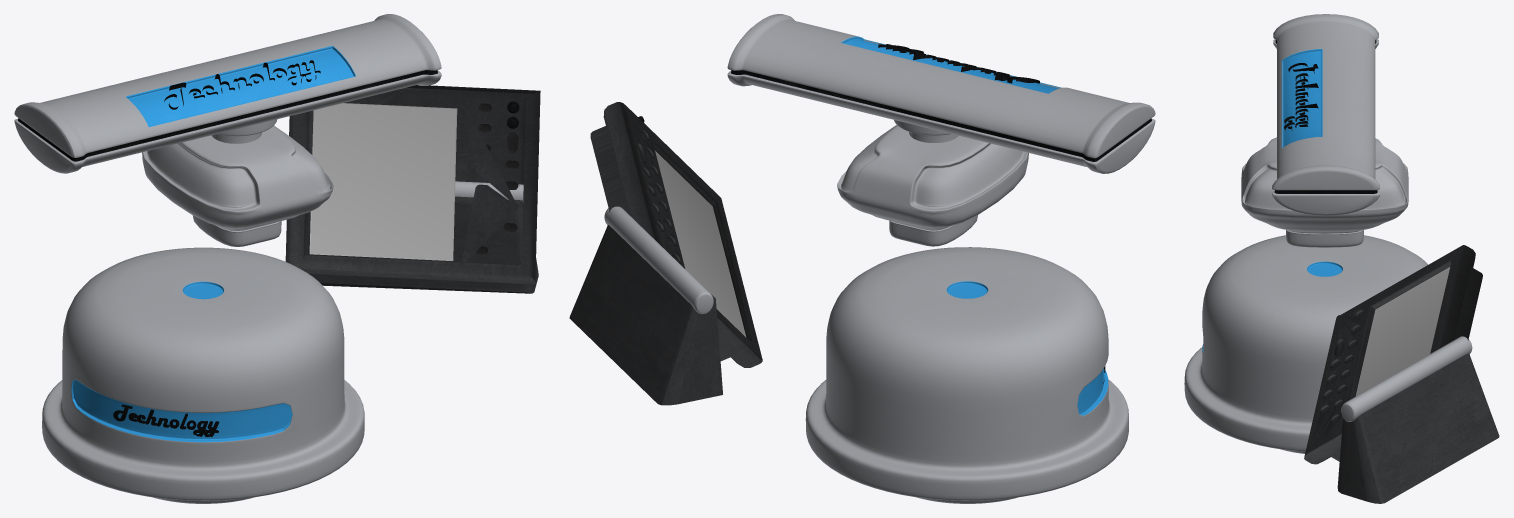
Rendered from Low Poly Ship Radar and Sonar Screen Collection.obj.
3 renders of one model, left to right at view 1: azimuth 30°, elevation 25°; view 2: azimuth 150°, elevation 25°; view 3: azimuth 270°, elevation 25°, orthographic. The views are drawn at different scales.
Parts seen in each view (by area): view 1: Radar_gövde, Radar_Ekran, Radar_başlık, Radar_gövde_1, Radar_yazı, Radar_yazı.001; view 2: Radar_gövde, Radar_Ekran, Radar_başlık, Radar_gövde_1, Radar_yazı.001; view 3: Radar_Ekran, Radar_gövde, Radar_başlık, Radar_gövde_1, Radar_yazı.001.
Part boxes in pixels (<box>): Radar_gövde: <box>42,247,364,503</box>; Radar_Ekran: <box>285,85,540,293</box>; Radar_başlık: <box>14,14,441,173</box>; Radar_gövde_1: <box>142,119,333,246</box>; Radar_yazı: <box>113,404,219,437</box>; Radar_yazı.001: <box>164,60,320,109</box>; Radar_gövde: <box>805,247,1128,503</box>; Radar_Ekran: <box>569,102,762,405</box>; Radar_başlık: <box>727,14,1155,173</box>; Radar_gövde_1: <box>837,120,1028,246</box>; Radar_yazı.001: <box>878,44,1039,83</box>; Radar_Ekran: <box>1304,245,1499,503</box>; Radar_gövde: <box>1184,235,1428,453</box>; Radar_başlık: <box>1272,14,1379,215</box>; Radar_gövde_1: <box>1241,137,1408,247</box>; Radar_yazı.001: <box>1284,63,1318,130</box>.
Bounding box in the file's own units: 5.12 × 3.67 × 3.06.
